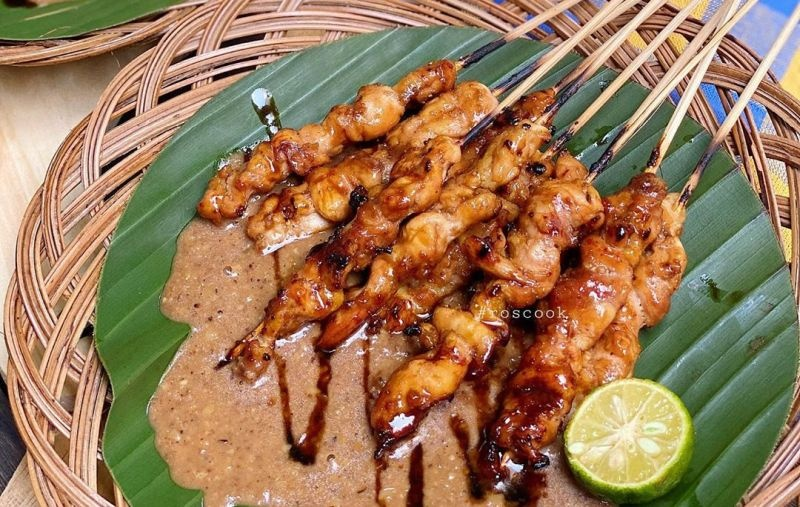sate: (197, 1, 800, 383)
